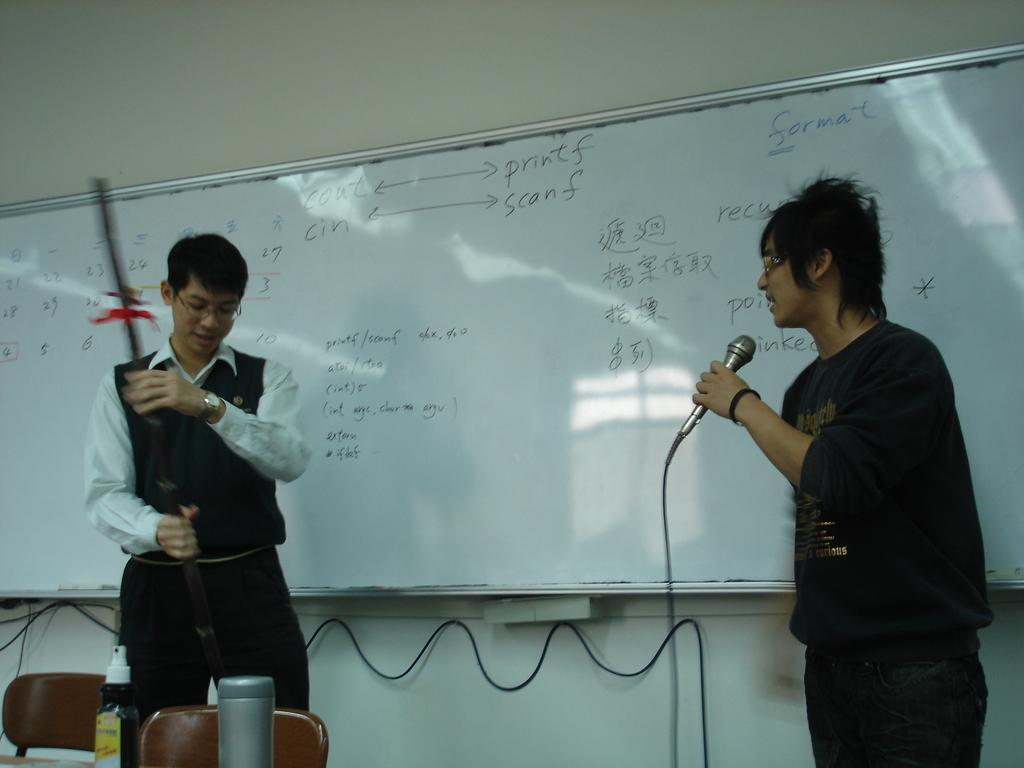Chair: (136, 704, 329, 767)
